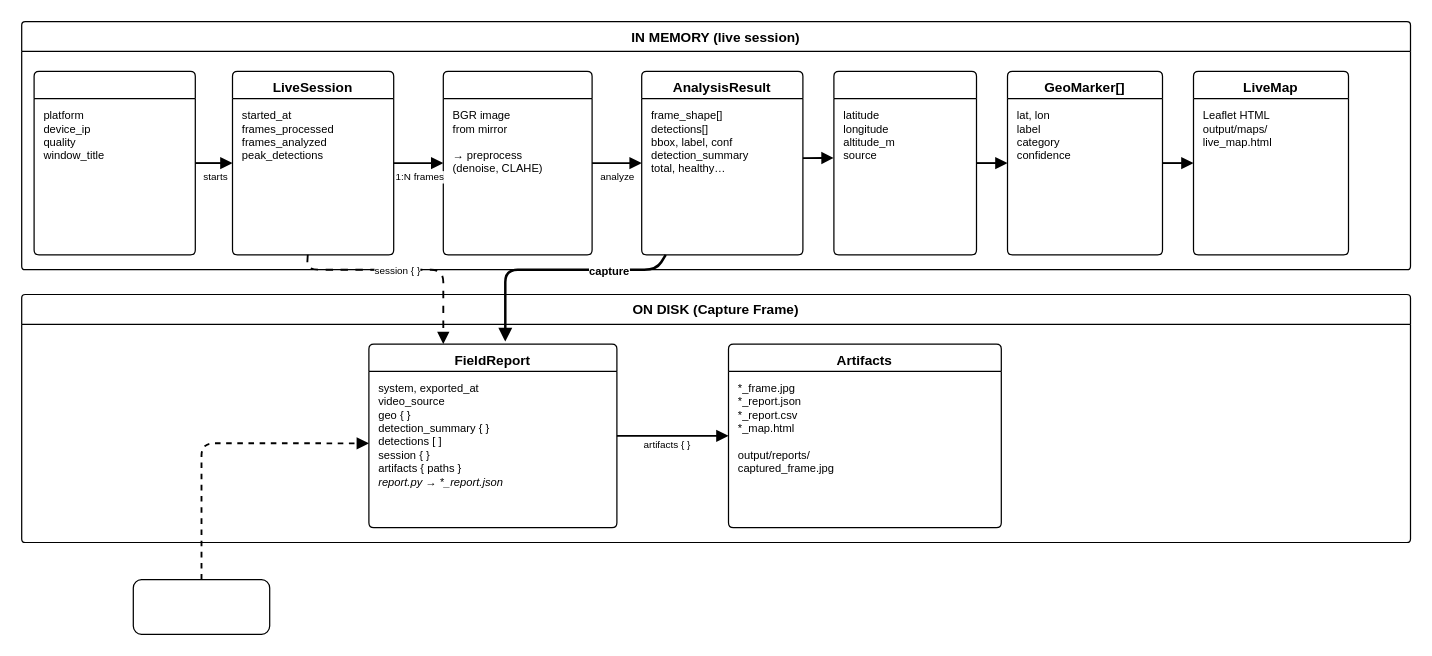
Image size: 1432x656. Some labels were removed from this diagram. The box of each missing label's shape, as (x1, y1, x2, y2) in pixels:
Capture Frame (operator): (132, 578, 270, 634)
Frame: (442, 70, 592, 255)
GeoTag: (833, 70, 976, 255)
VideoSource: (33, 70, 195, 255)
